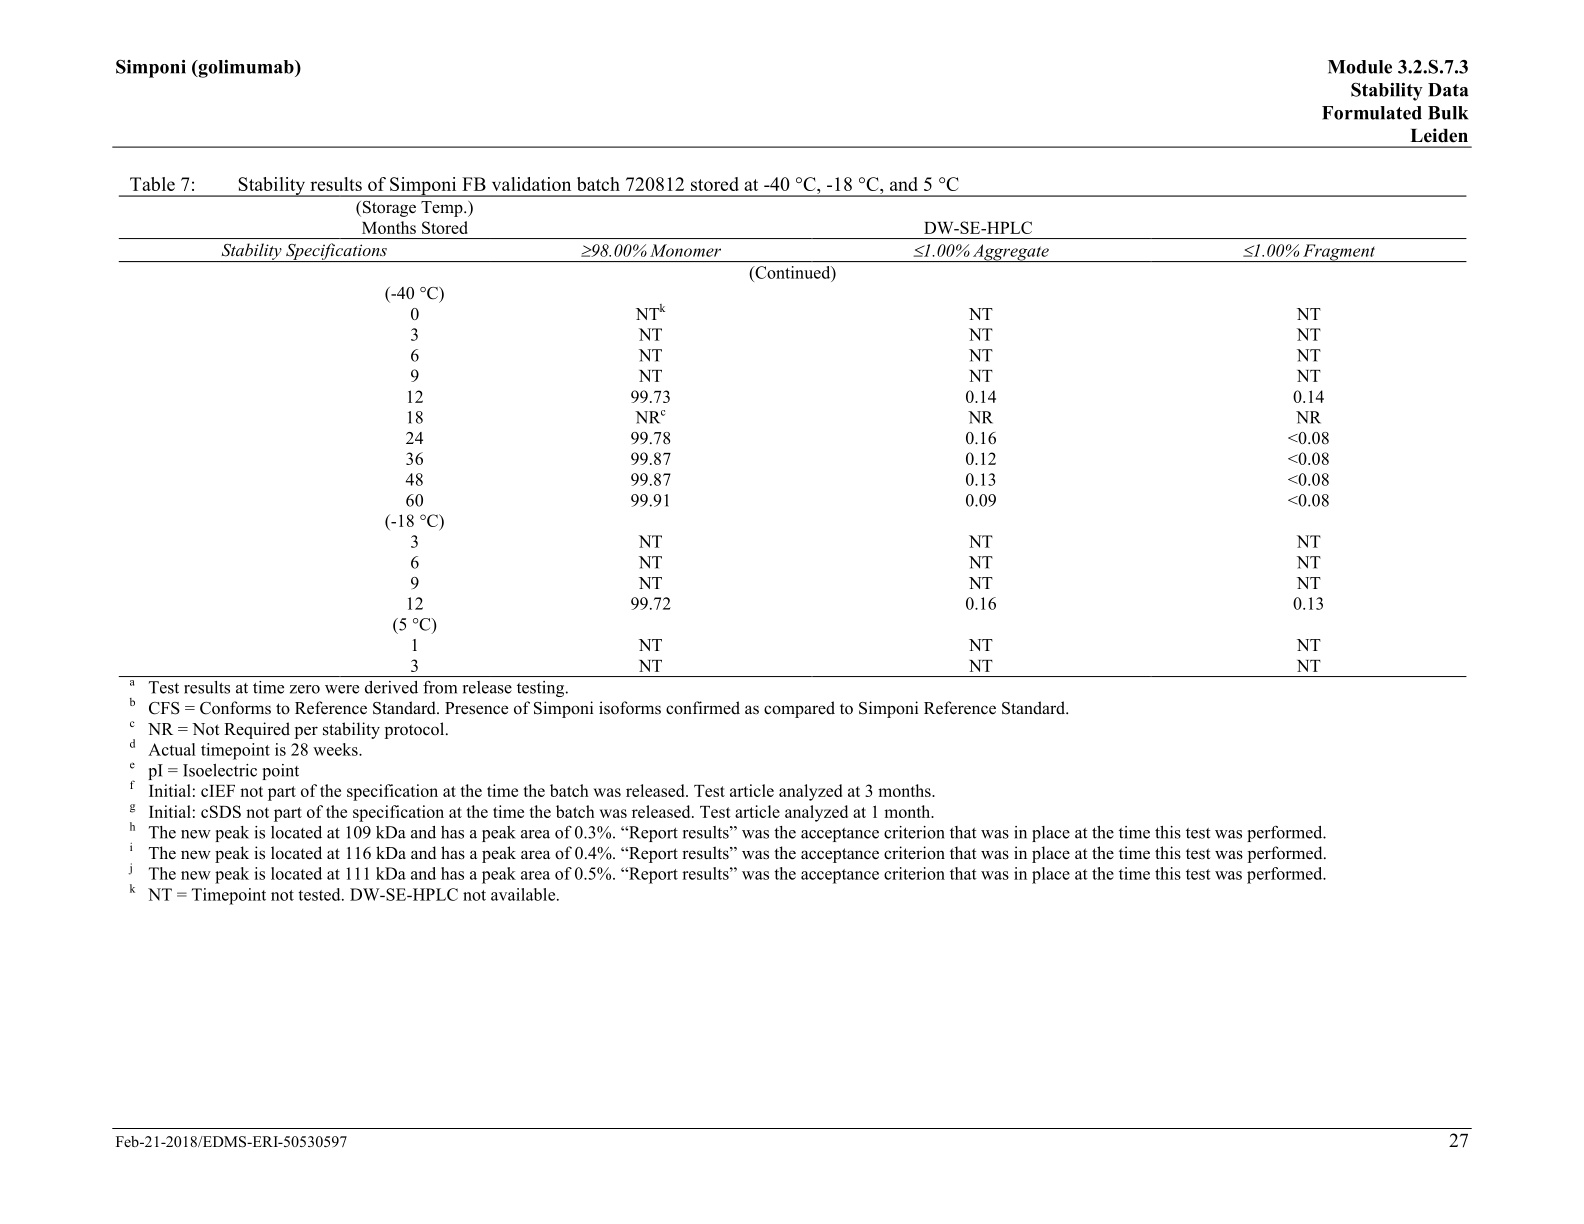partial_lined: (120, 194, 1466, 678)
